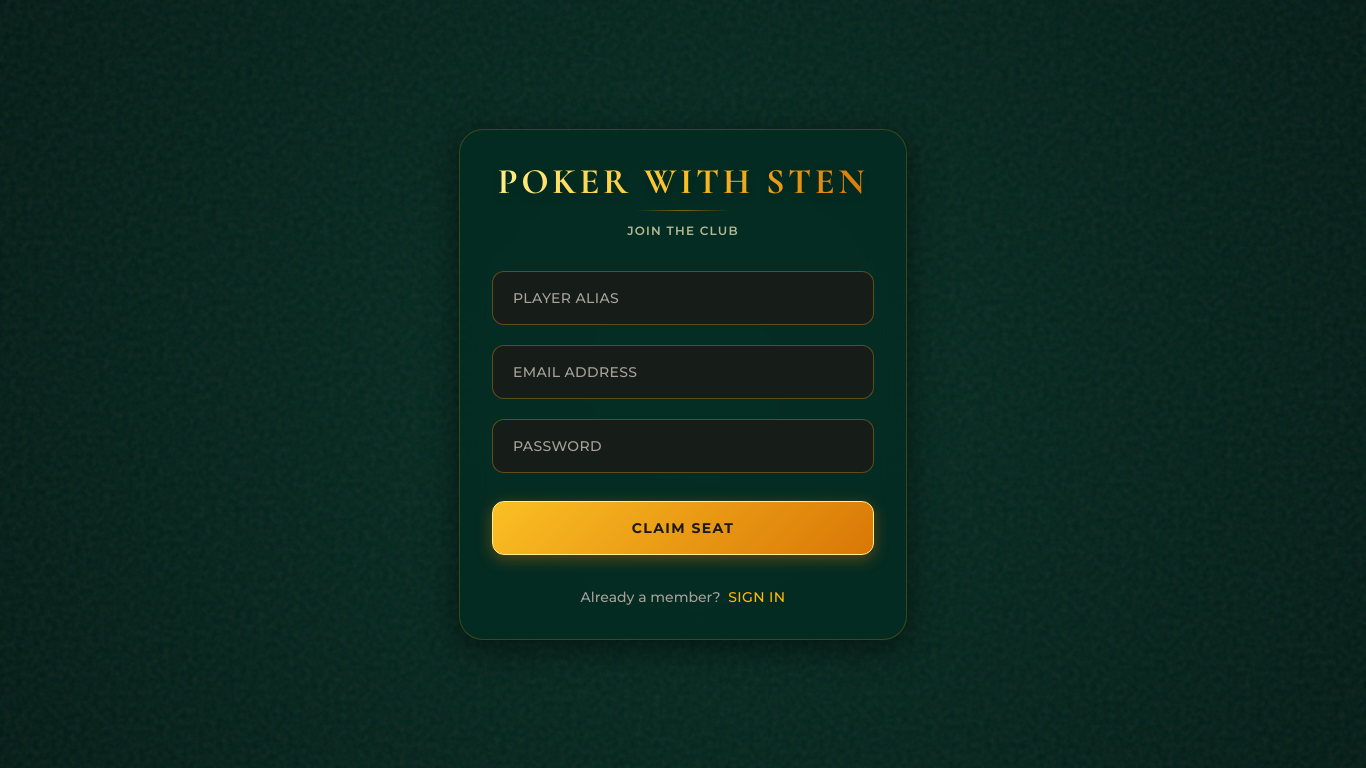
Register Component › displays generic error message when server error has no message
Type "testuser" into the field with placeholder "PLAYER ALIAS" at (683,298), box [492,270,874,324]
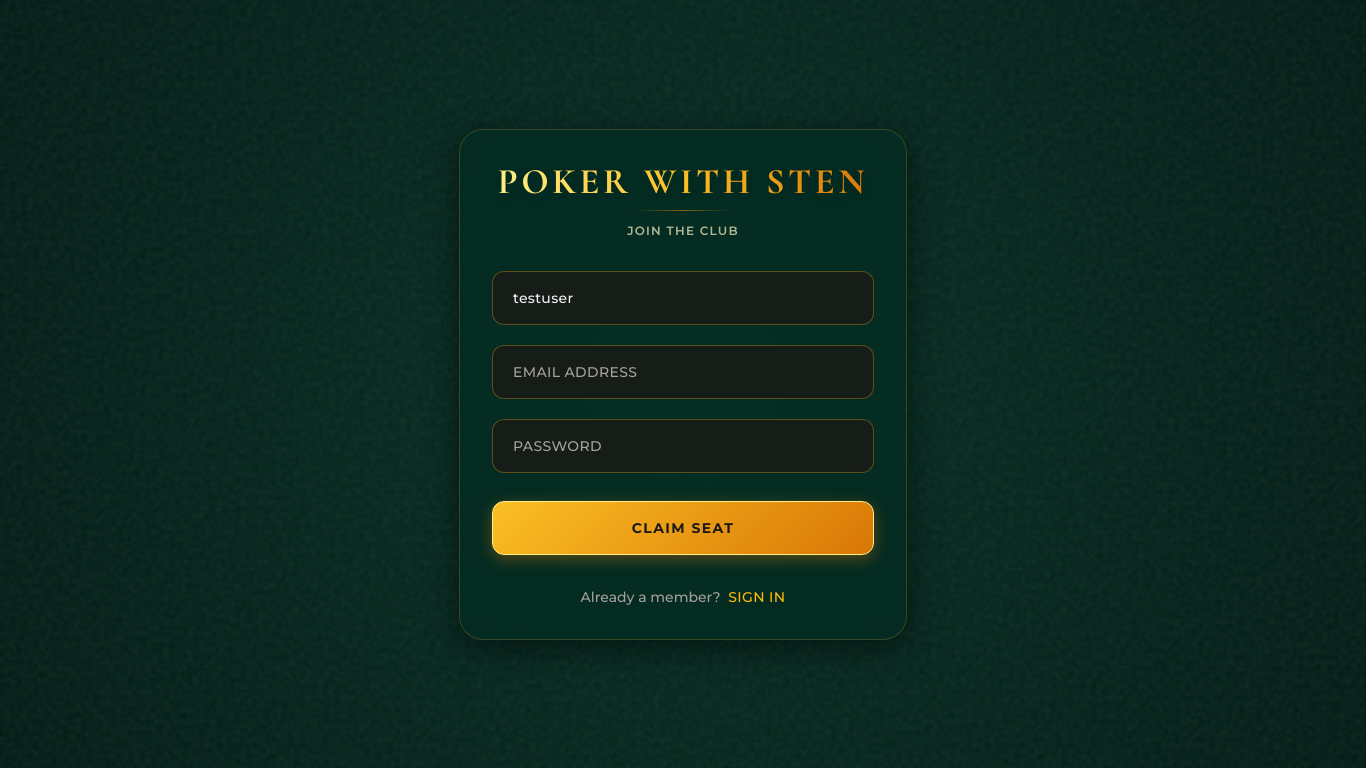
Type "test@example.com" into the field with placeholder "EMAIL ADDRESS" at (683,372), box [492,344,874,398]
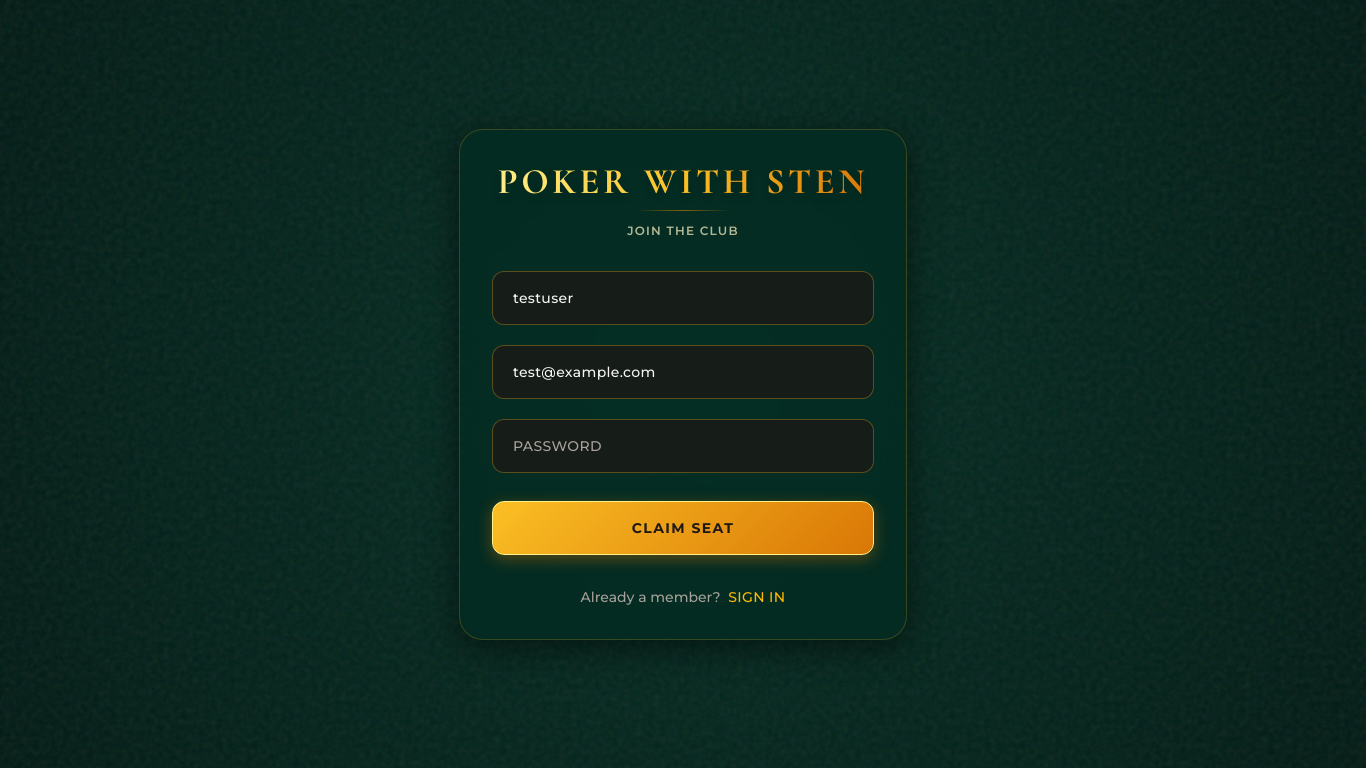
Type "password123" into the password field with placeholder "PASSWORD" at (683,446), box [492,418,874,472]
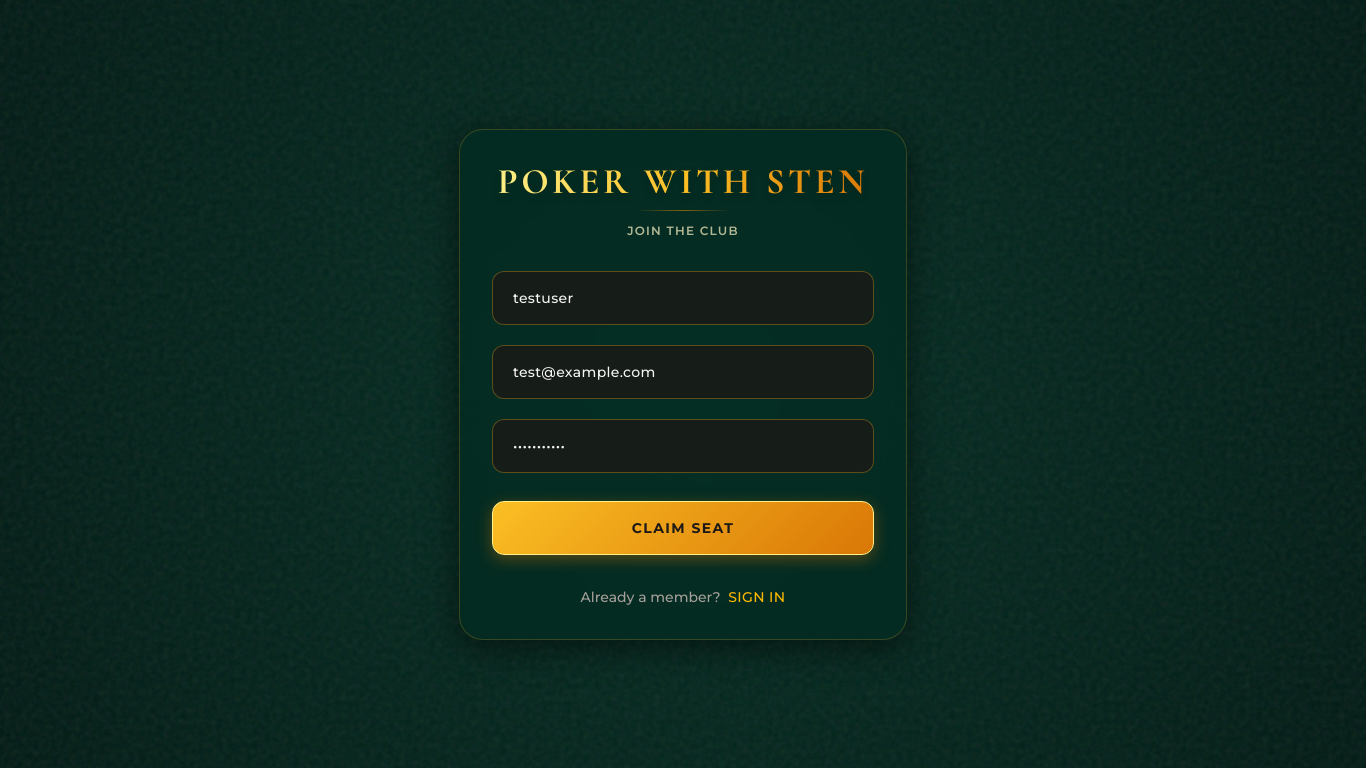
Click the button "Claim Seat" at (683,528), box [492,500,874,554]
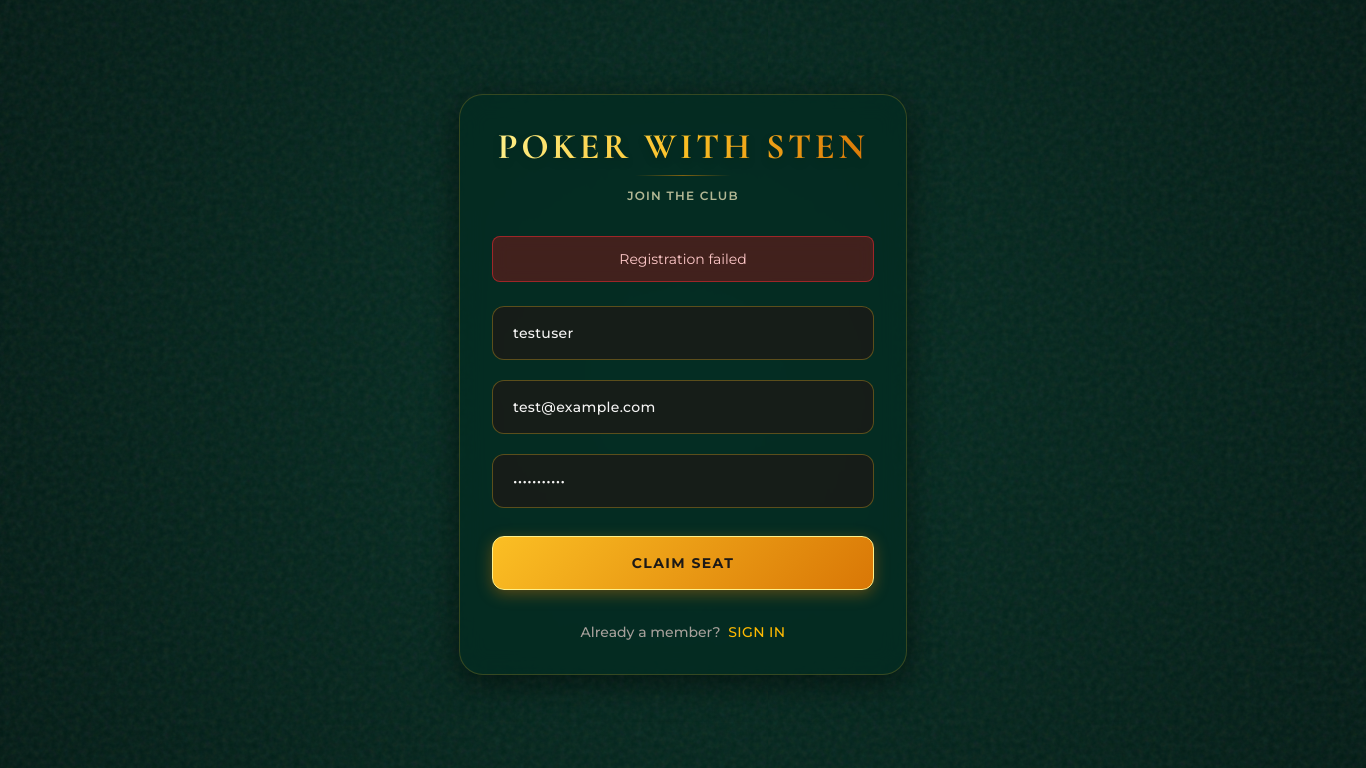
Expected: the button "Claim Seat" is enabled, [492,536,874,590]
Now the text "Registration failed" is shown, box [492,236,874,282]
